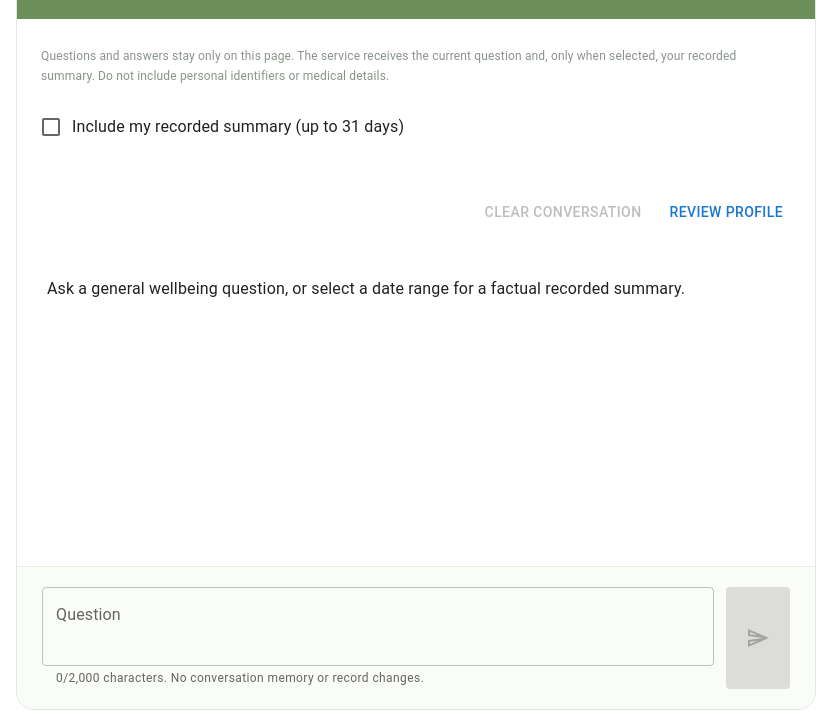
Scenario: A09 owner/consent-safe stateless Q&A UI with controlled API › retains an error bubble and retries its captured question key instead of creating another conversation turn
The width and height of the screenshot is (833, 727).
(page scrolled)
Type "Retry this original question" into the text box labelled "Question" at (378, 627), box [56,604,700,650]
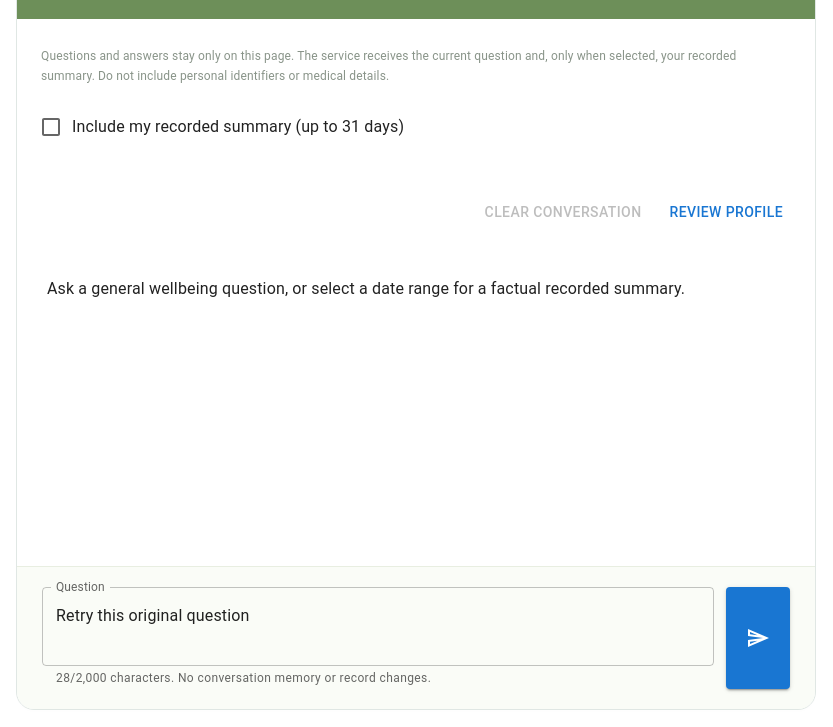
Result: the button named "Send question" is enabled
Click the button named "Send question" at (758, 638), box [726,587,790,689]
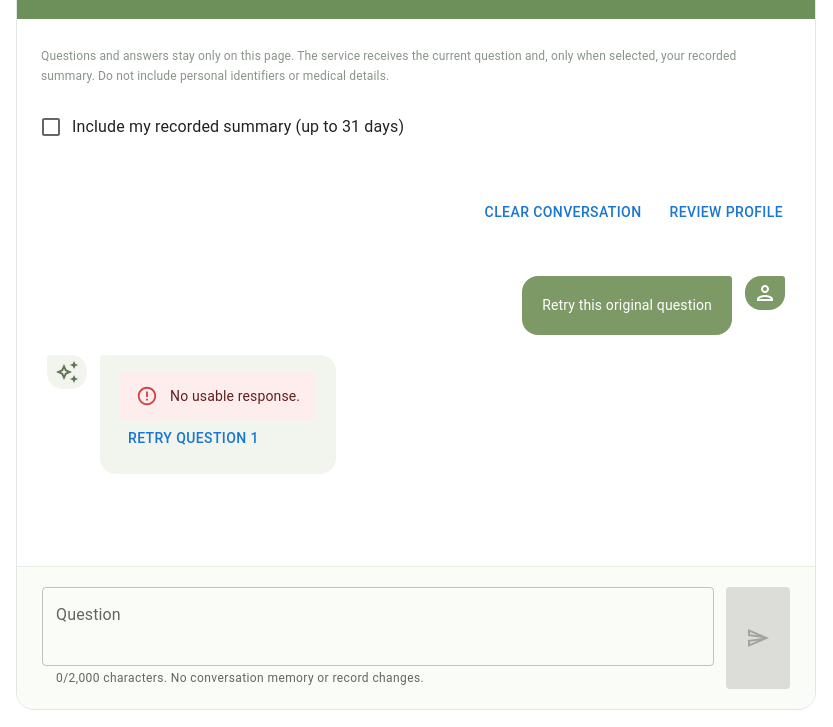
Result: the text "No usable response." is shown at [170,388,300,404]
Type "Unsent next question" into the text box labelled "Question" at (378, 627), box [56,604,700,650]
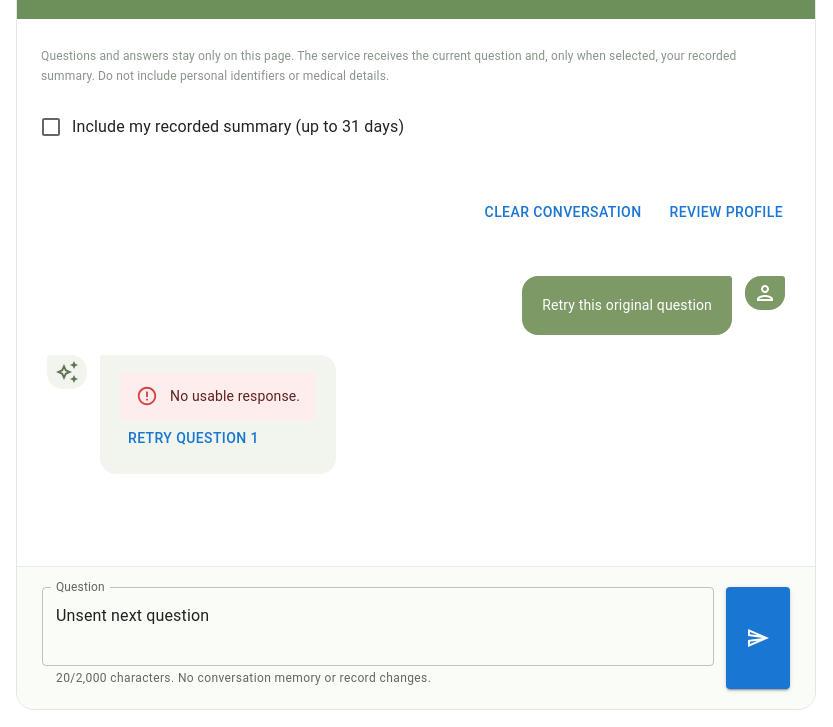
Click the button "Retry question 1" at (193, 439), box [120,420,267,457]
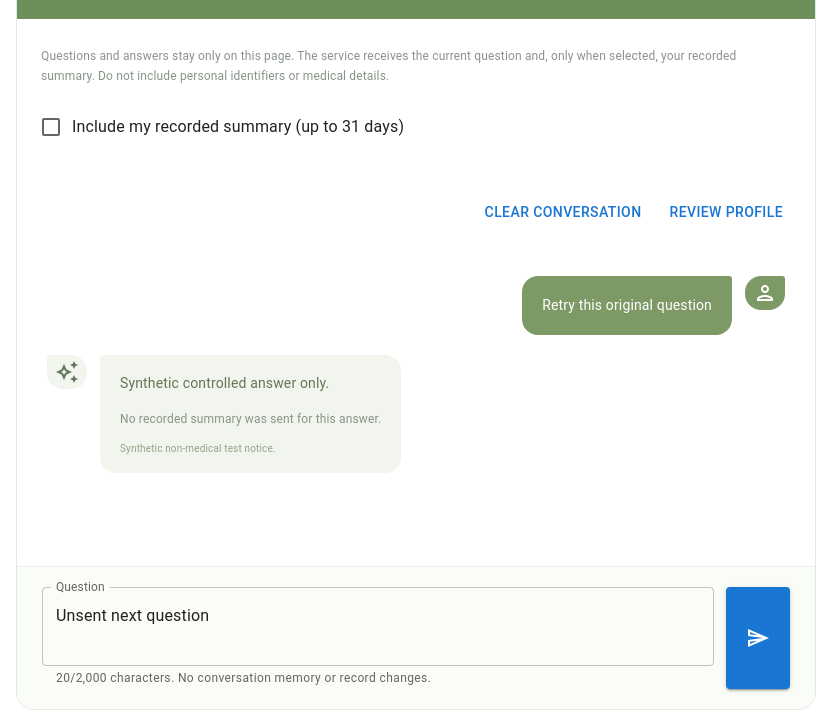
Result: the text "Retry this original question" is shown at [522,276,732,336]
Result: the text "Retry this original question" is shown once at [522,276,732,336]
Result: the text "Synthetic controlled answer only." is shown at [120,376,329,392]
